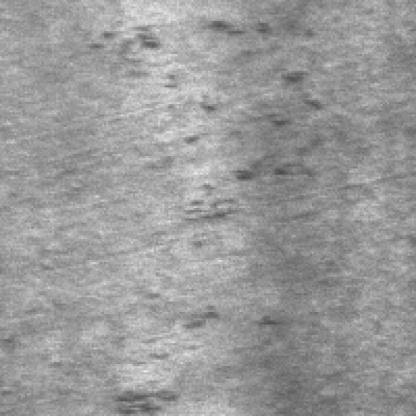rolled-in_scale: (85, 18, 321, 220), (108, 300, 277, 414)
